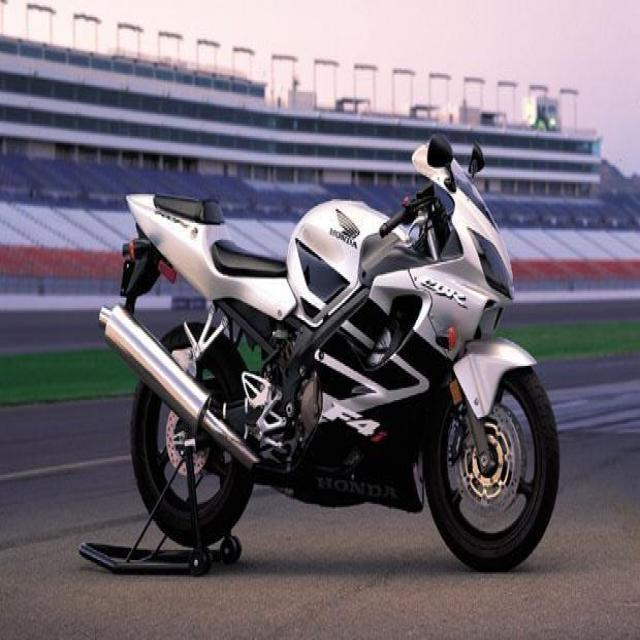Motorcycle: (114, 141, 561, 578)
